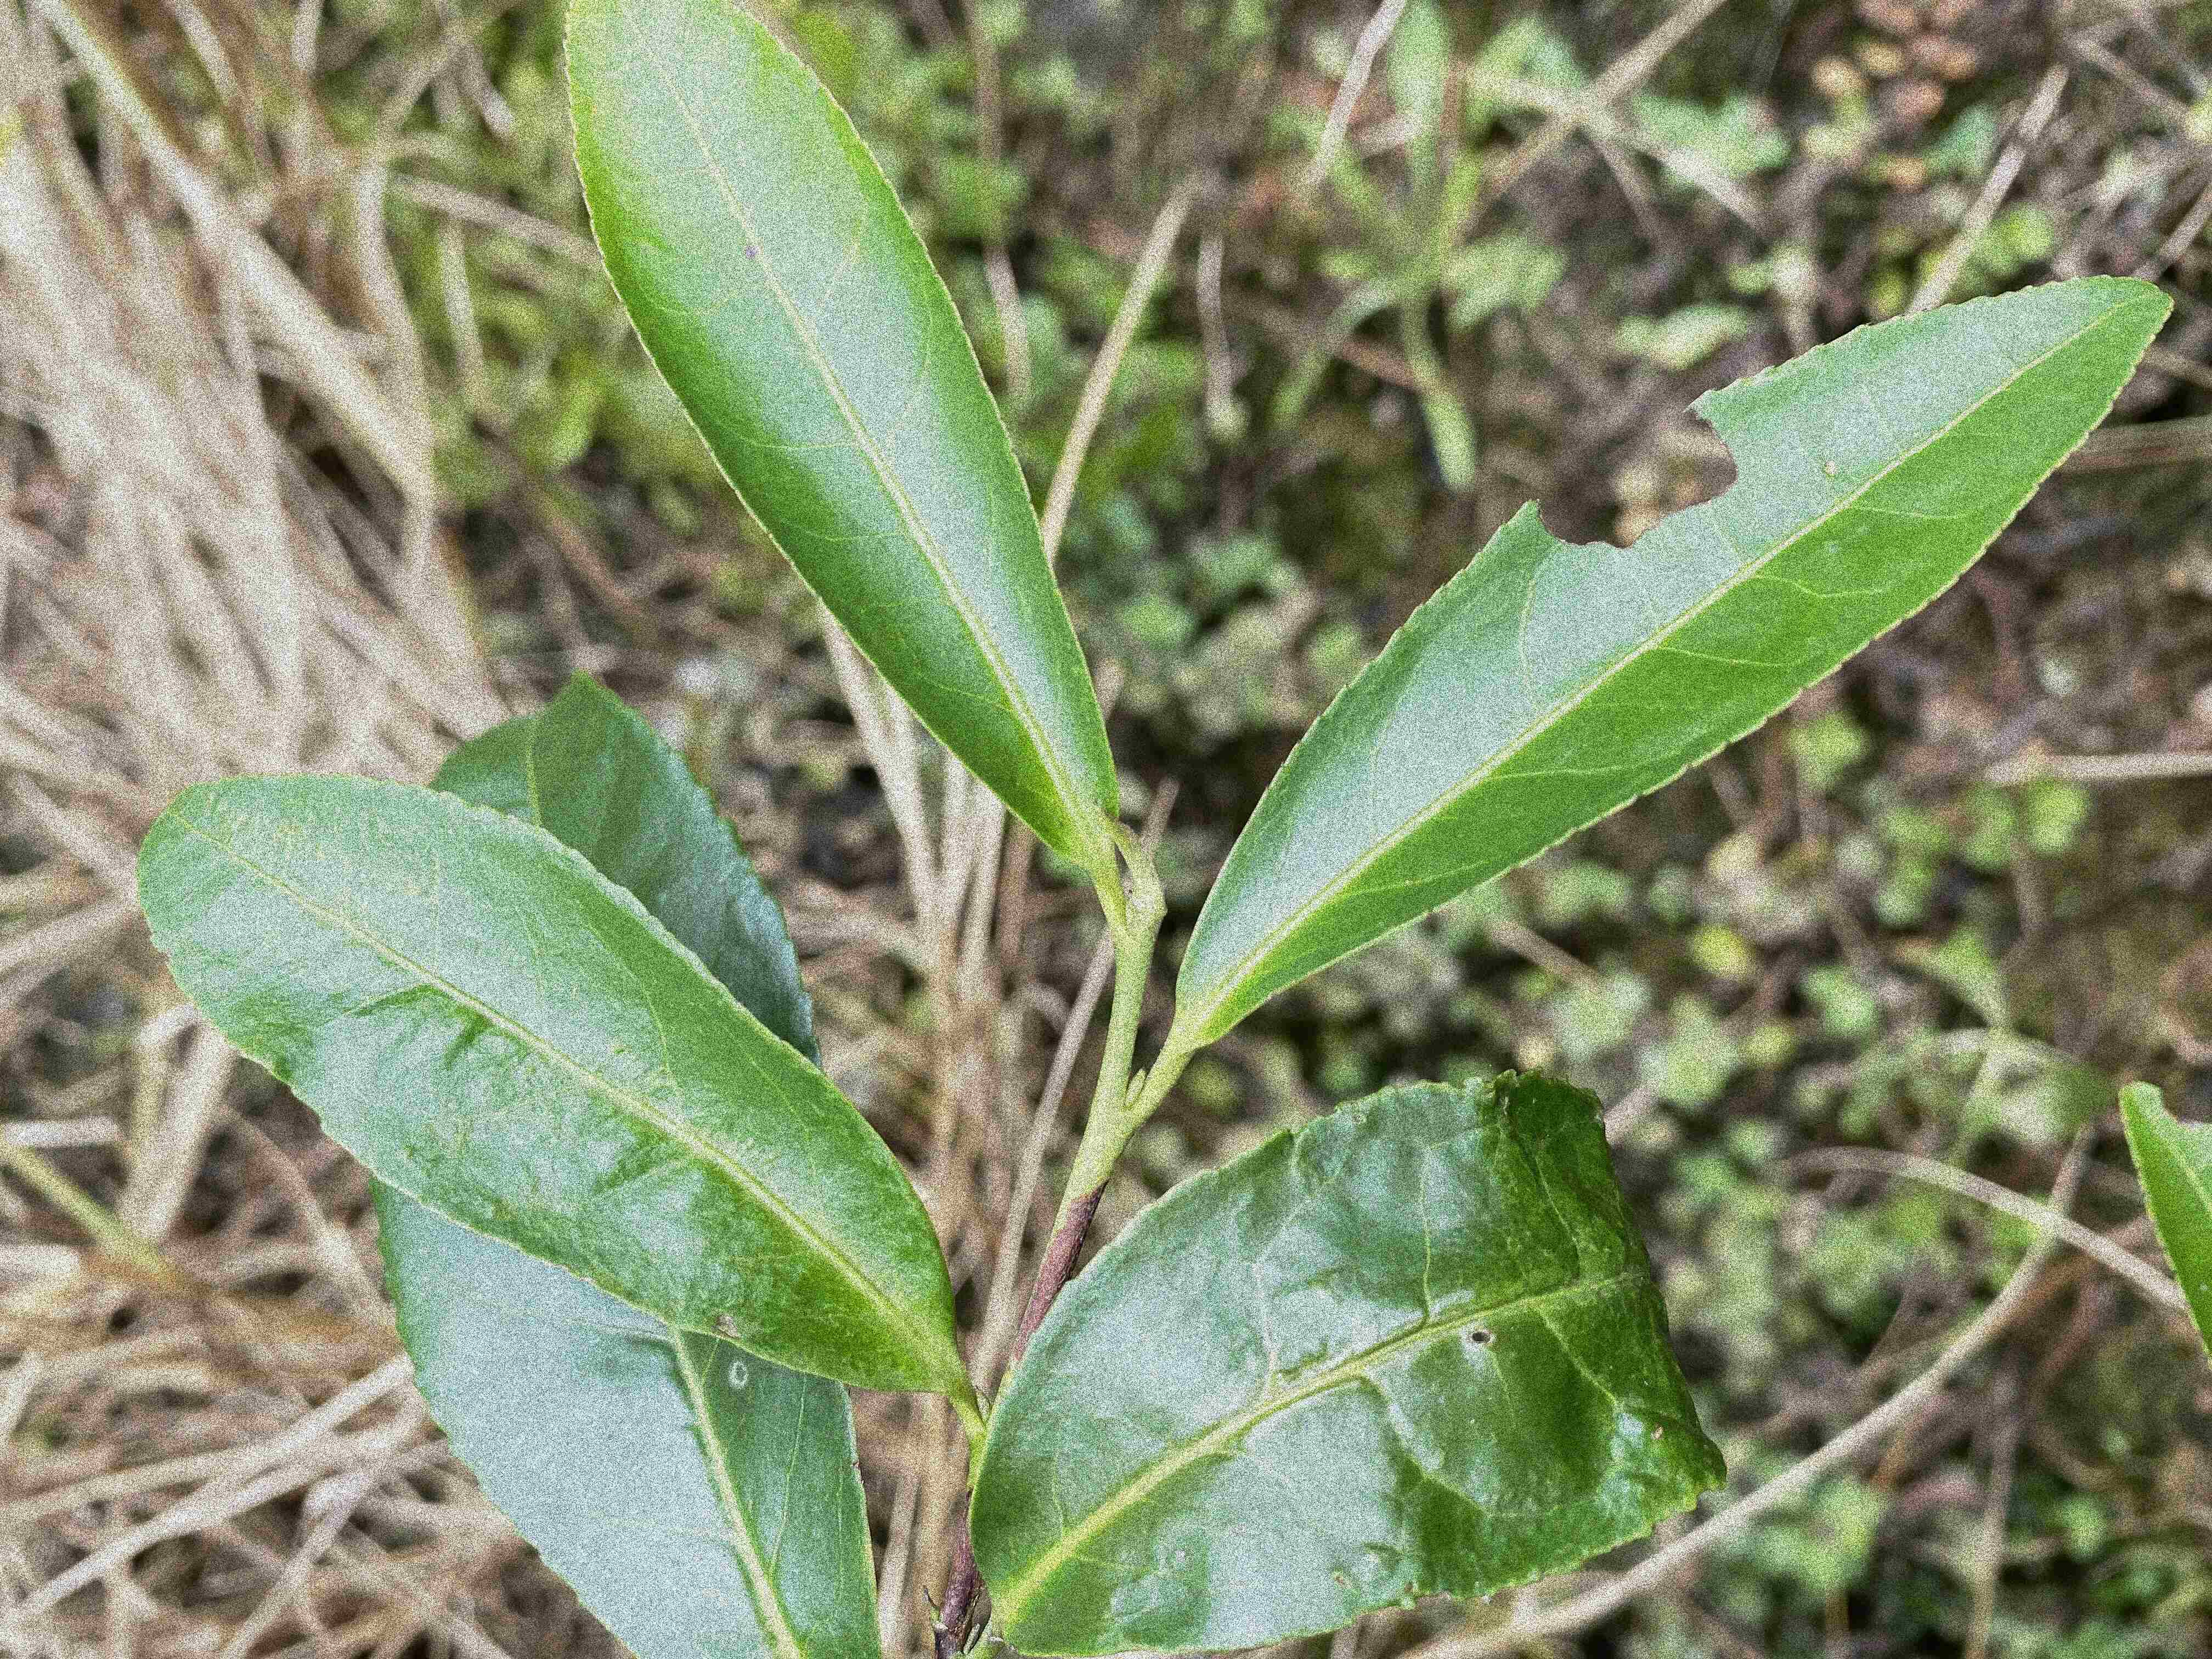chihuo_low: (1170, 277, 2172, 1049)
healthy: (131, 770, 961, 1392), (559, 0, 1122, 871)
